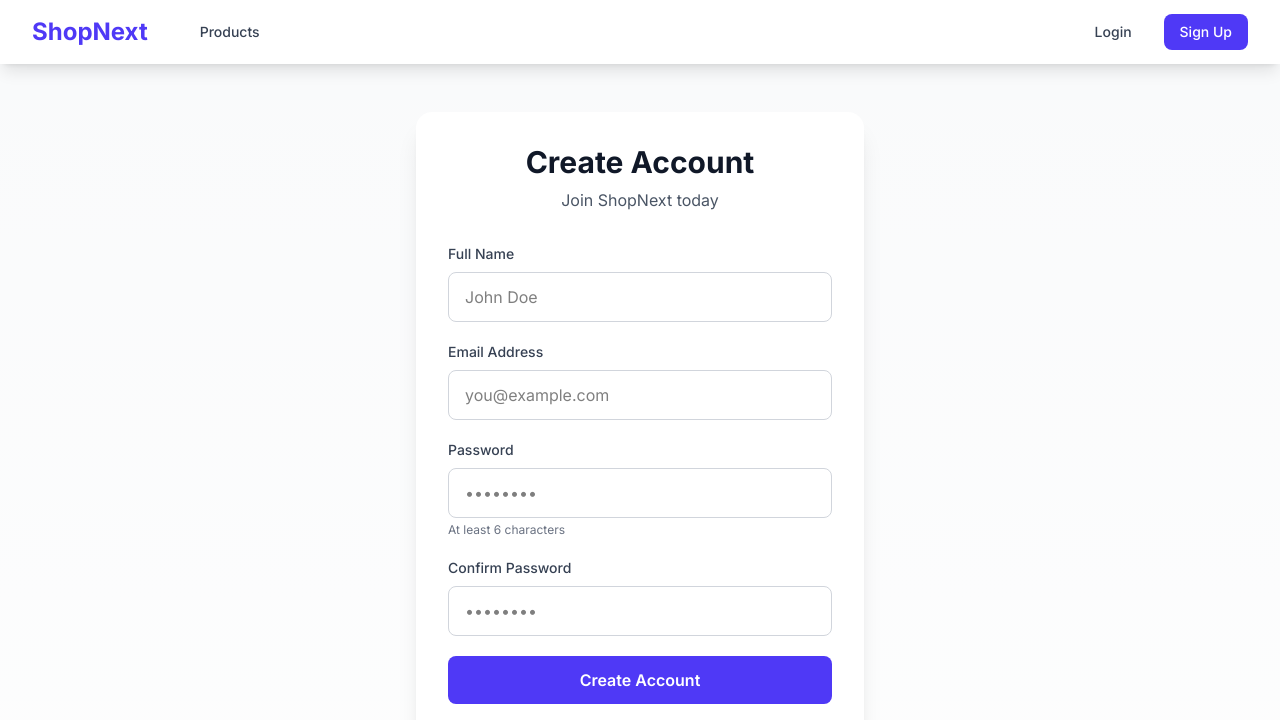
Test: signup Page › should navigate to login page when clicking on Login link
Click the link "Login".
click(1114, 32)  # box left=1095, top=23, right=1132, bottom=40
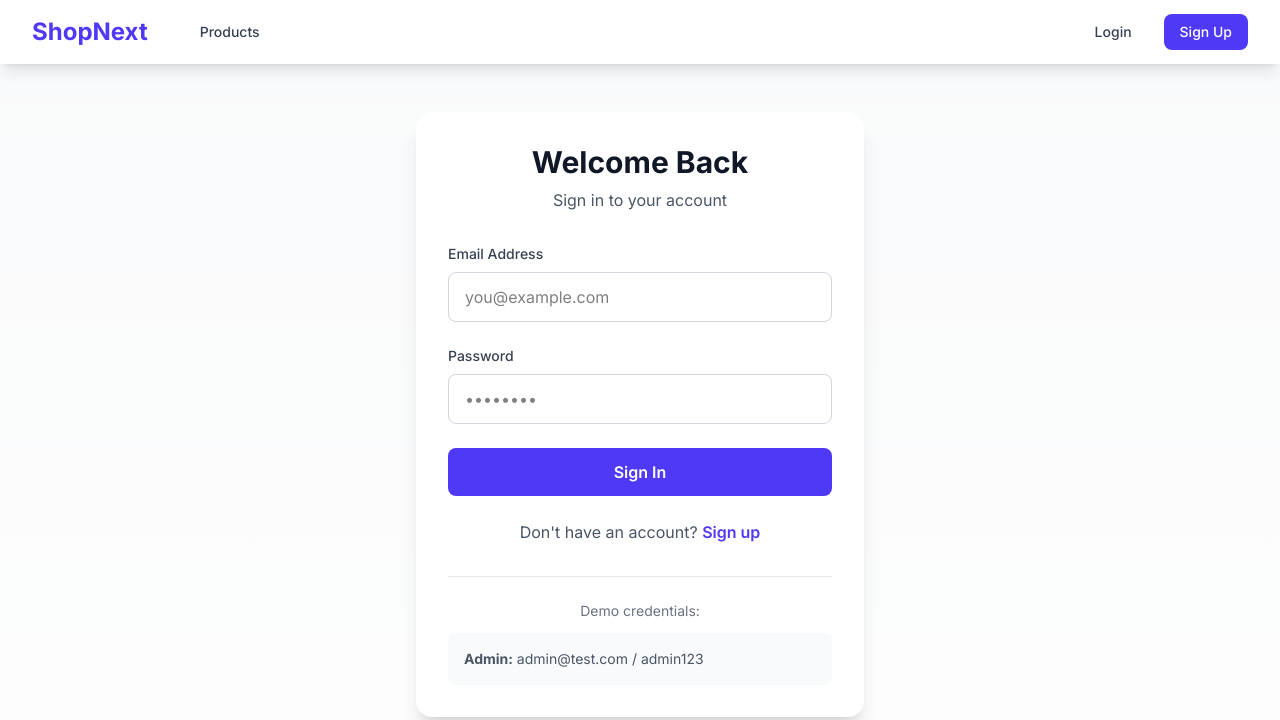
Expected: the heading "Welcome Back" is shown, left=532, top=144, right=748, bottom=180
